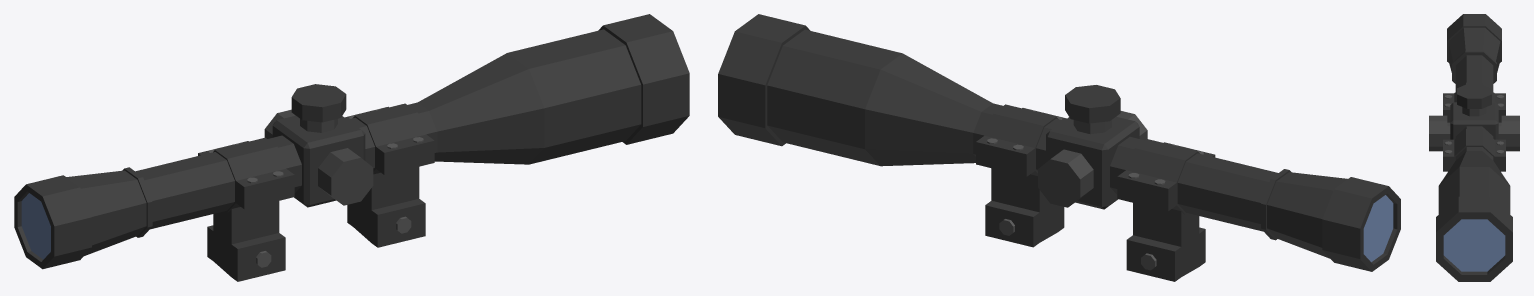
File: Optic_08.fbx
The picture shows the model from 3 angles, left to right: view 1: azimuth 30°, elevation 25°; view 2: azimuth 150°, elevation 25°; view 3: azimuth 270°, elevation 25°; orthographic projection. The views are drawn at different scales.
Visible parts, largest first — view 1: Optic_08; view 2: Optic_08; view 3: Optic_08.
Boxes of the visible parts, x1,y1,x2,y2 form: Optic_08: [14, 14, 689, 281]; Optic_08: [718, 14, 1400, 281]; Optic_08: [1429, 14, 1519, 281].
Bounding box in the file's own units: 0.4217 × 0.0974 × 0.0776.
